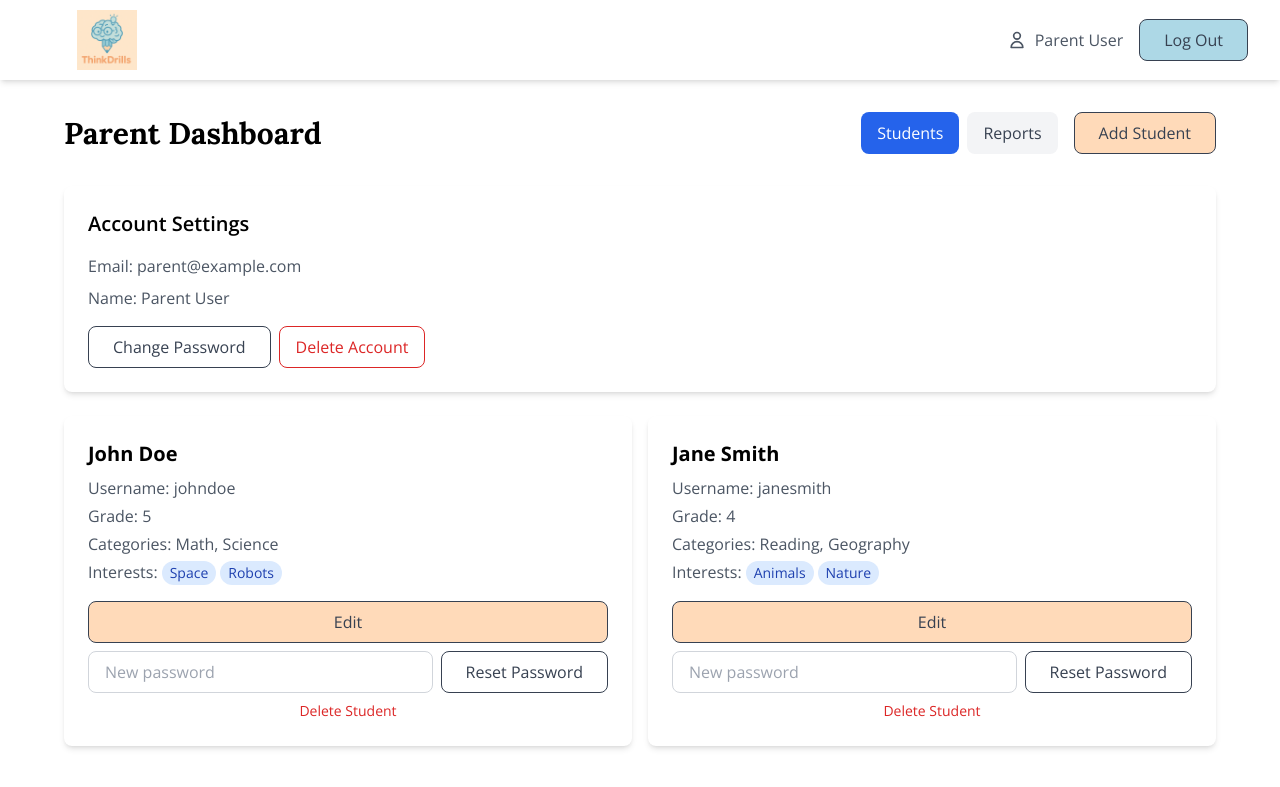
Scenario: Parent Dashboard › should handle student editing
Expected: the heading "John Doe" is shown, [88,440,178,467]
# Find and click edit button for John Doe
What coordinates should you click on to do the following:
click the button "Edit" below "Space"
I would click on:
 (348, 622)
Its box is [88,601,608,643].
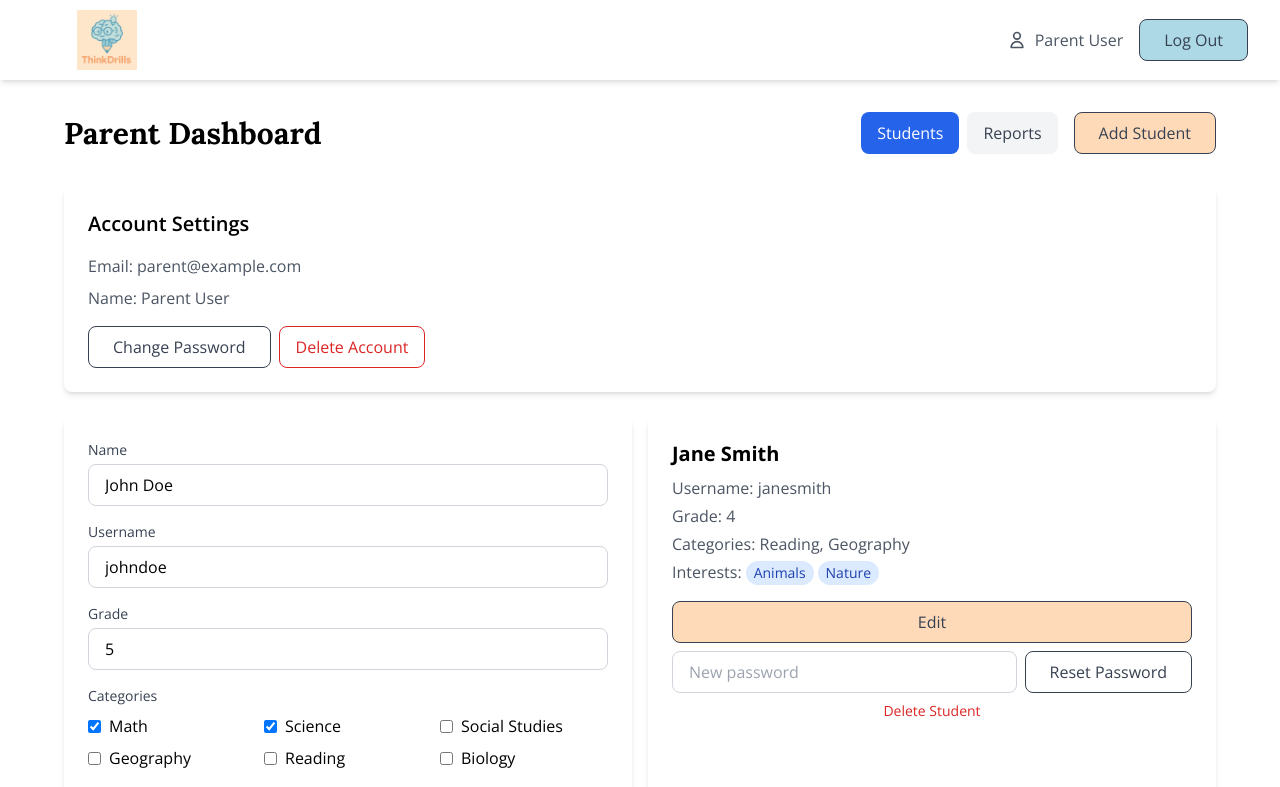
Expected: the text "Grade" is shown, [88,604,128,623]
Now the text "Name" is shown, box [88,440,127,459]
